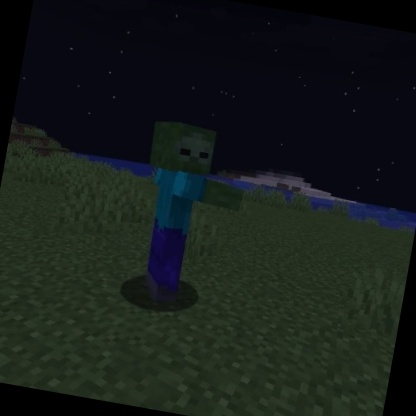zombie: (117, 115, 258, 316)
